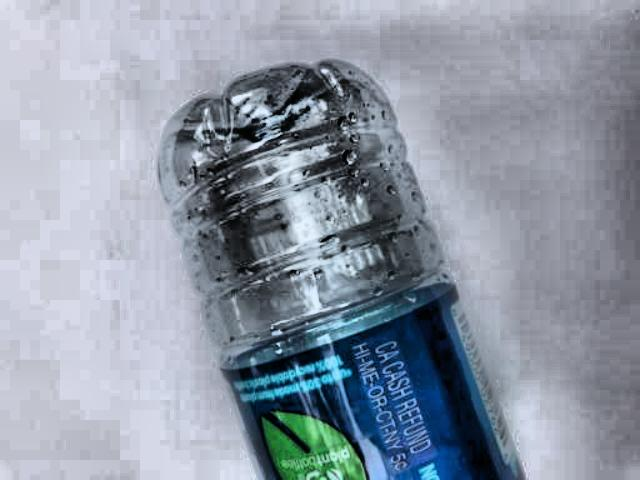Bottles: (120, 49, 555, 480)
